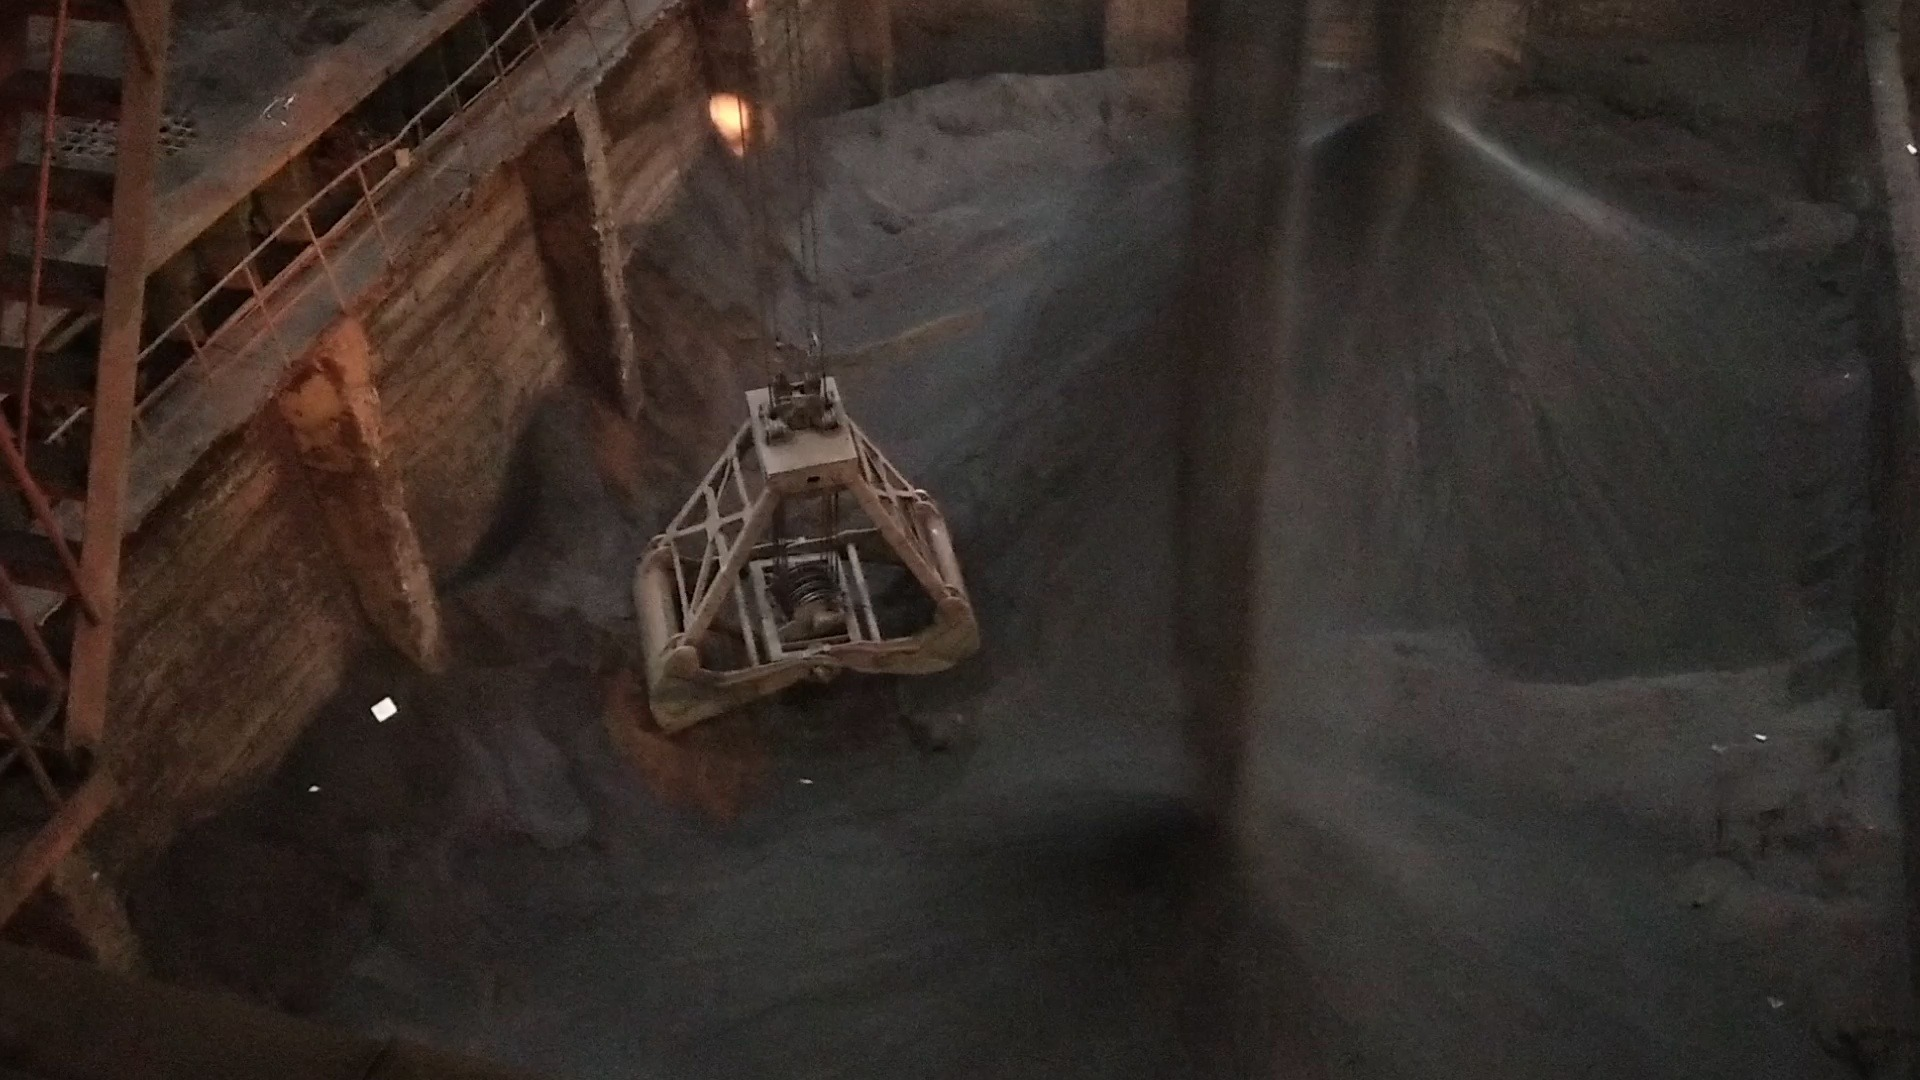grab: (618, 320, 994, 741)
